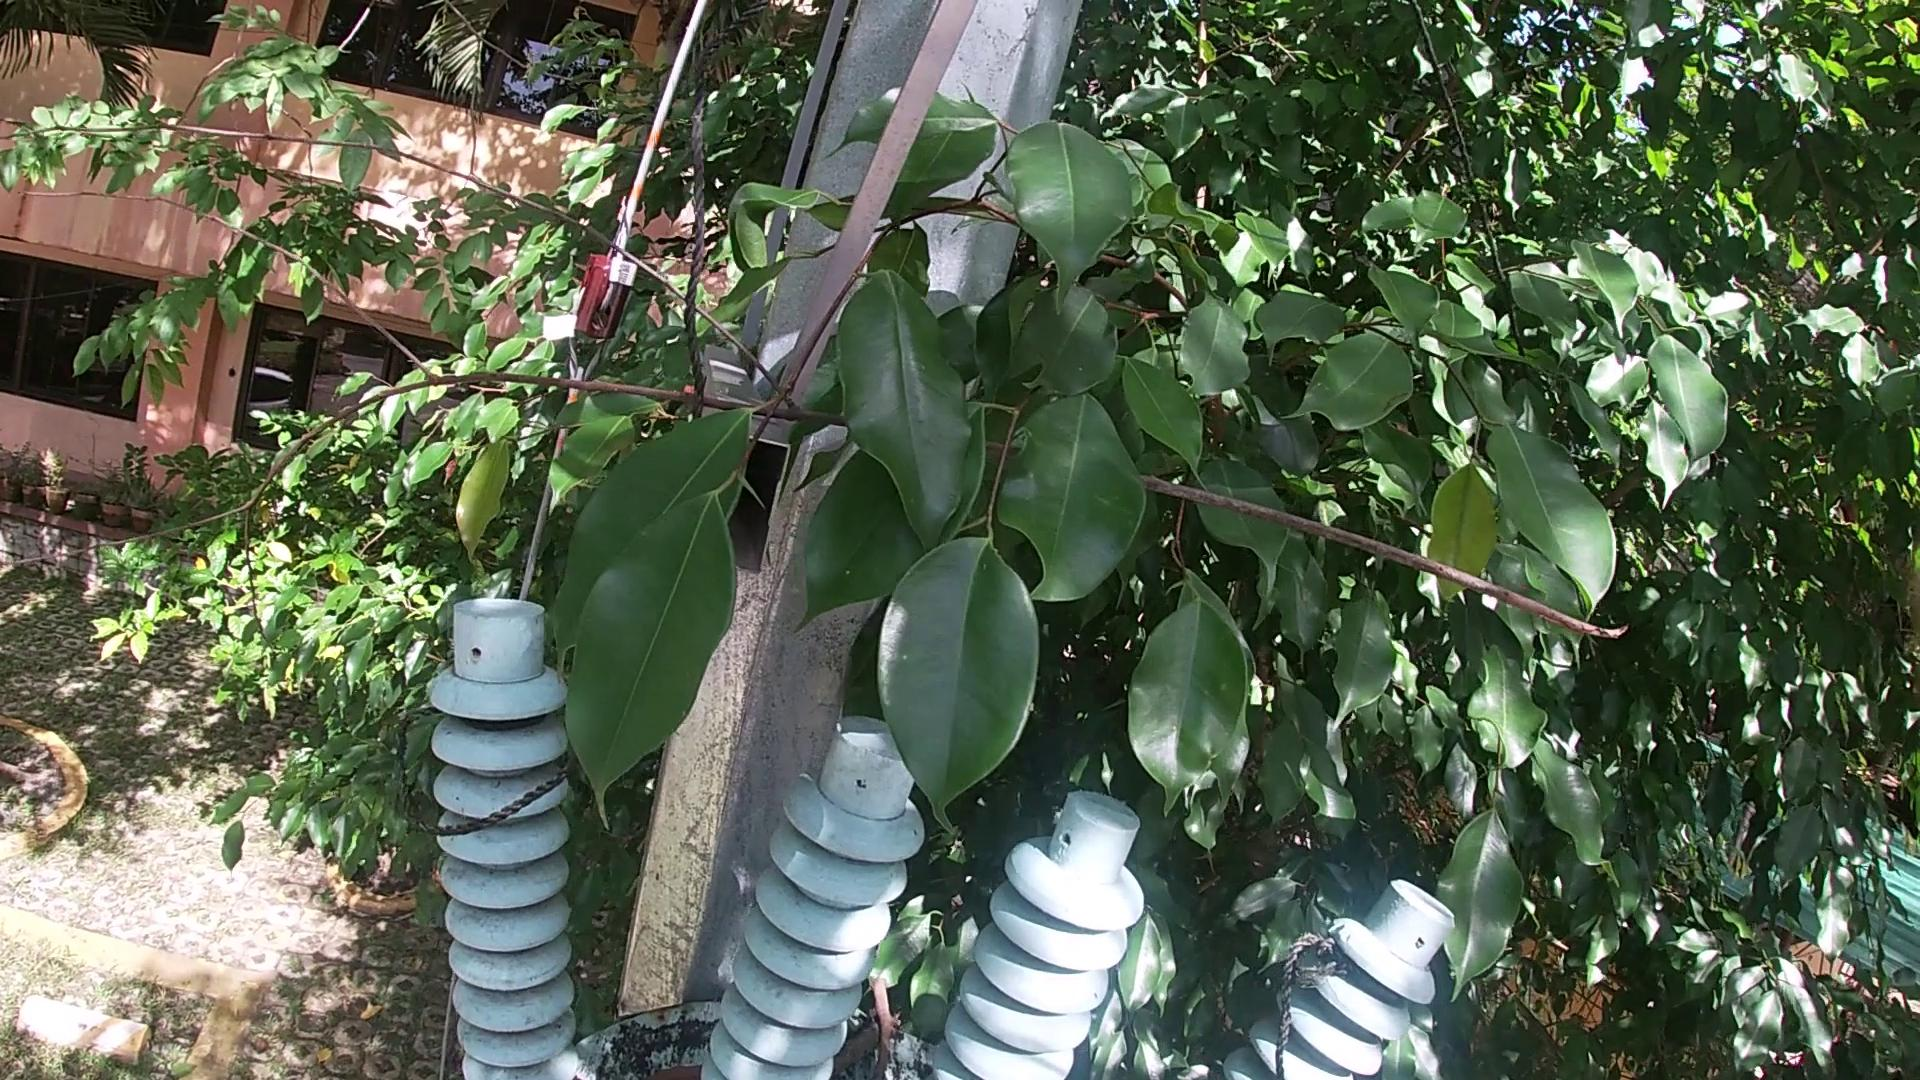leaf: (653, 1062, 708, 1077)
tree branch: (1, 96, 1691, 713), (833, 1010, 901, 1075), (876, 964, 898, 1080)
